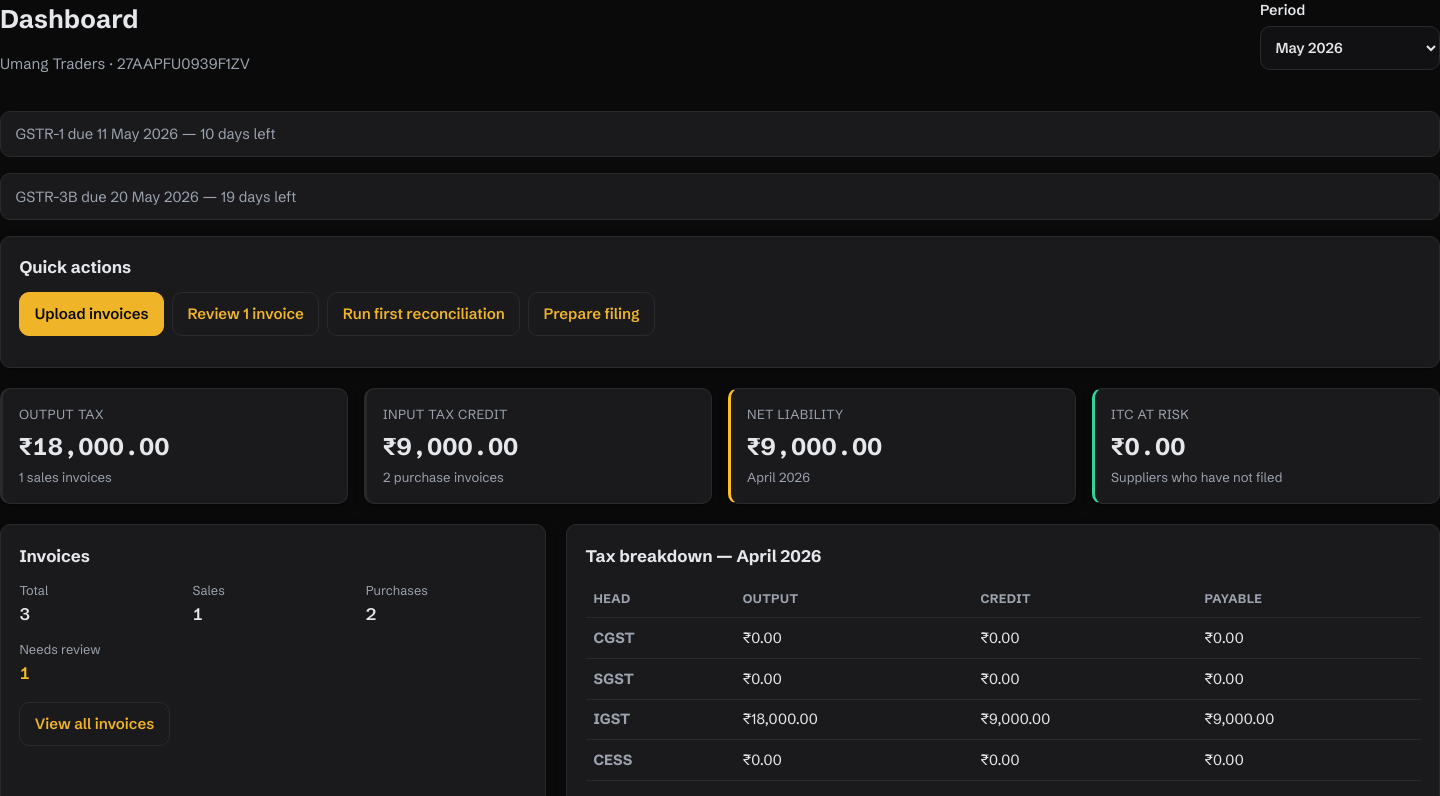
Test: DashboardPage › the period picker › does not leave the old month's figures under the new month's label
The image size is (1440, 796).
Expected: the text "Umang Traders · 27AAPFU0939F1ZV" is shown, [0,53,250,76]
Expected: the heading "Tax breakdown — April 2026" is shown, [586,546,821,566]
Select "March 2026" in the dropdown labelled "Period" at coordinates (1350, 48), box [1260,26,1439,70]
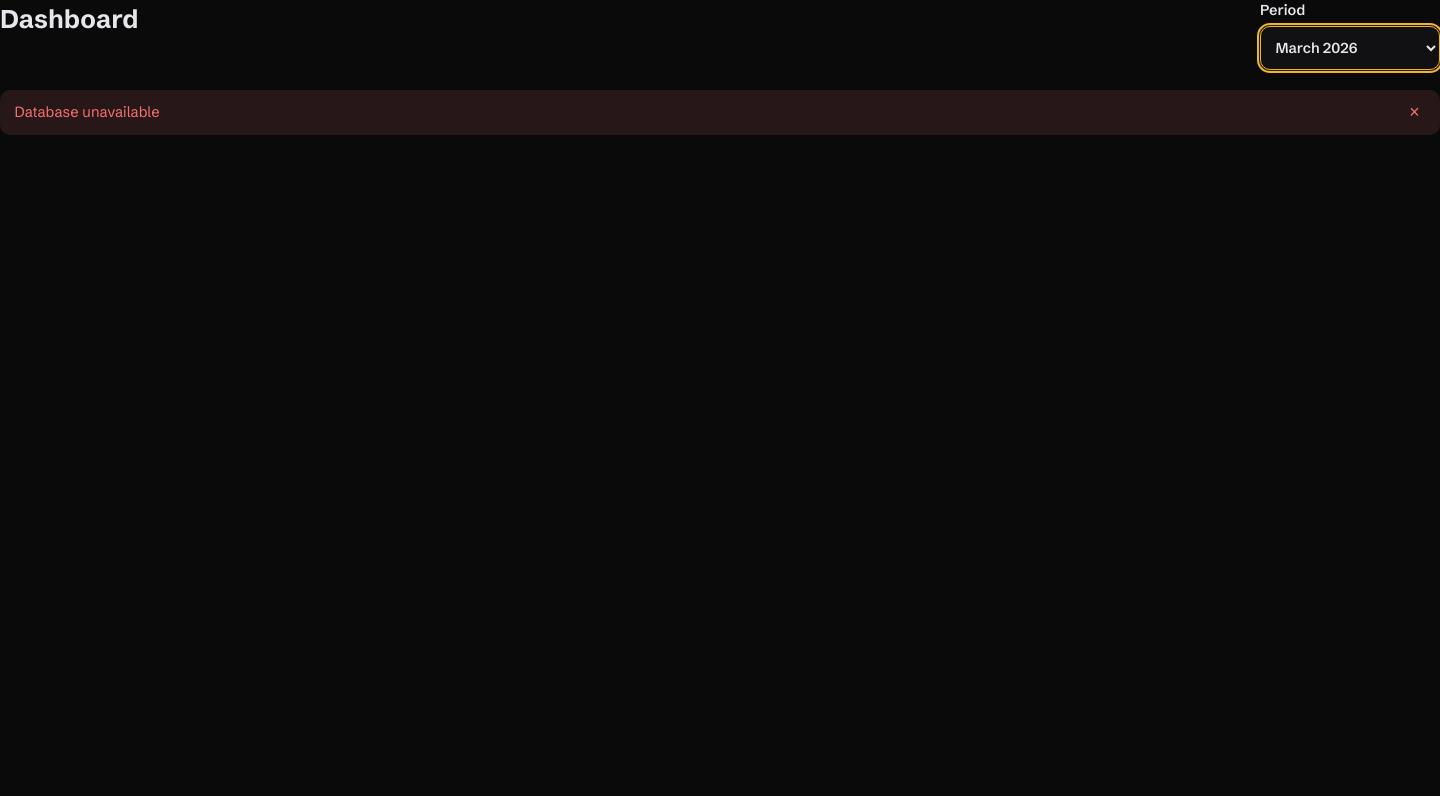
Expected: the message shows "Database unavailable", [14,103,160,121]
Expected: the heading "Tax breakdown — April 2026" is gone
Expected: the text "Umang Traders" is gone
